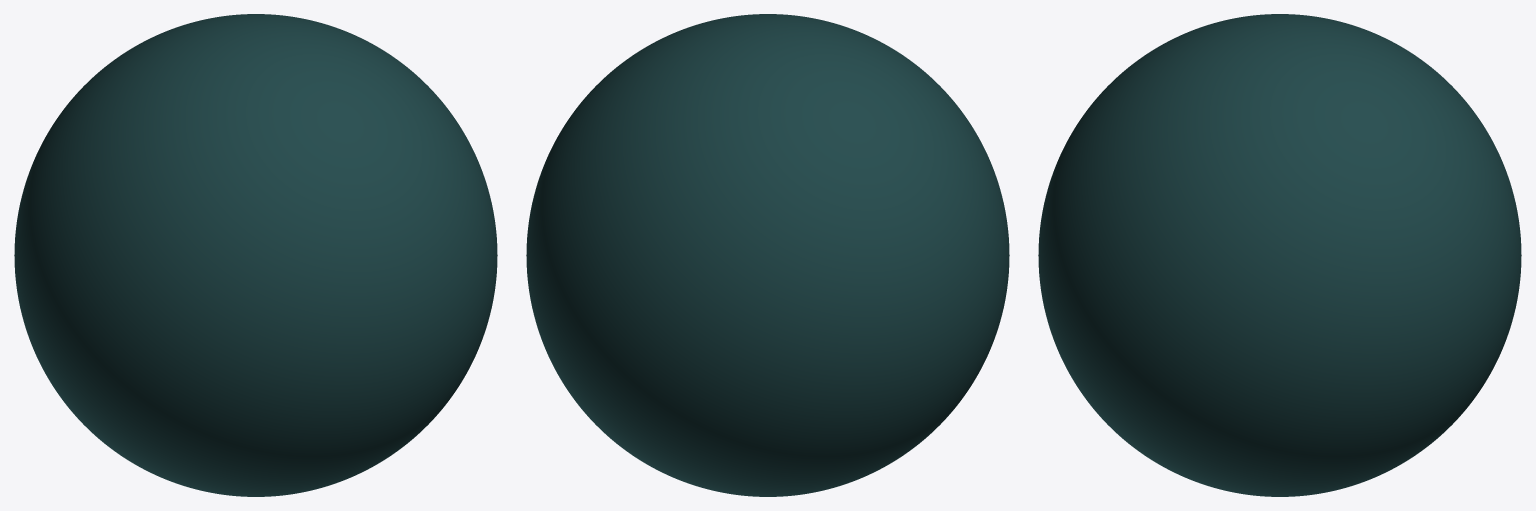
The model's file is ocean.glb.
The picture shows the model from 3 angles, left to right: view 1: azimuth 30°, elevation 25°; view 2: azimuth 150°, elevation 25°; view 3: azimuth 270°, elevation 25°; orthographic projection.
Size of the model in its own units: 240 by 240 by 240.
